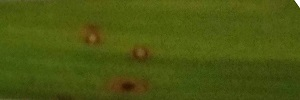RiceBlast: (105, 70, 155, 100), (76, 17, 109, 48), (128, 41, 152, 65)
